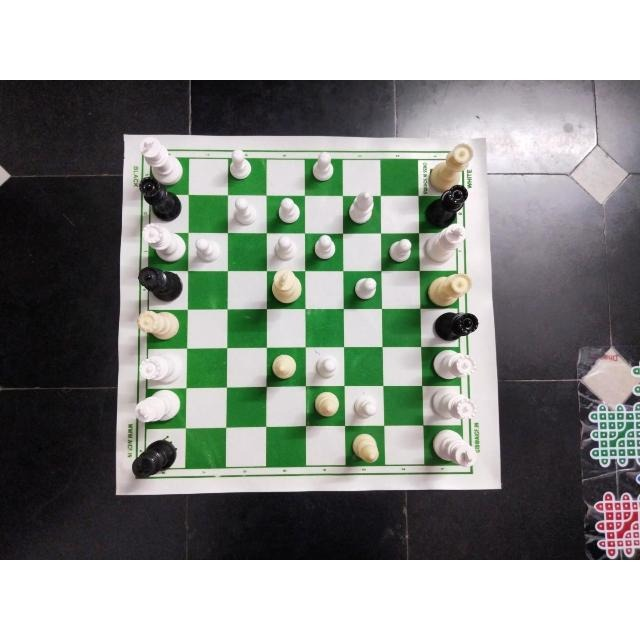black-king: (129, 437, 178, 483)
black-queen: (421, 182, 469, 230), (424, 310, 484, 343), (139, 176, 181, 220), (136, 264, 184, 302)
white-bishop: (345, 188, 377, 226), (267, 350, 301, 385), (348, 430, 382, 465), (310, 389, 341, 421)
white-king: (137, 137, 183, 183), (429, 426, 477, 468), (423, 222, 467, 264), (134, 390, 182, 426), (268, 269, 304, 308)
white-pawn: (225, 195, 261, 229), (223, 145, 253, 185), (307, 146, 336, 186), (381, 234, 414, 266), (270, 194, 304, 225), (348, 390, 380, 422), (350, 272, 380, 305), (309, 351, 339, 383), (312, 232, 340, 264), (191, 235, 222, 263), (271, 235, 301, 263)
white-queen: (427, 140, 472, 190), (141, 221, 187, 261), (426, 271, 474, 307), (426, 348, 476, 381), (428, 387, 478, 420), (133, 305, 177, 341), (136, 351, 183, 384)
